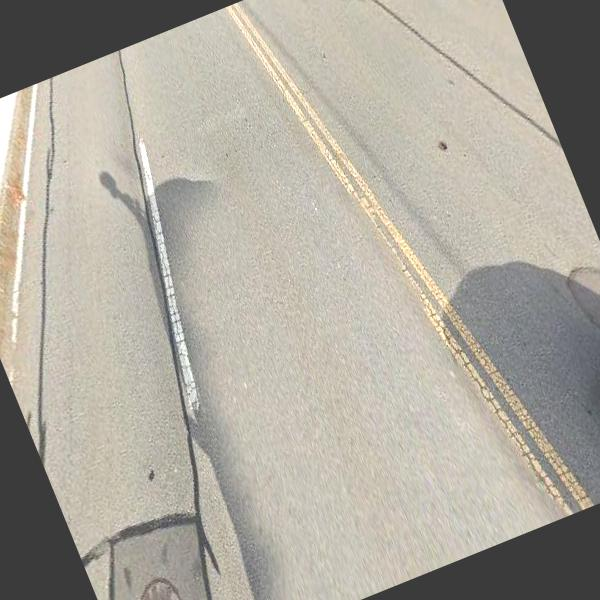manhole: (108, 567, 212, 600)
